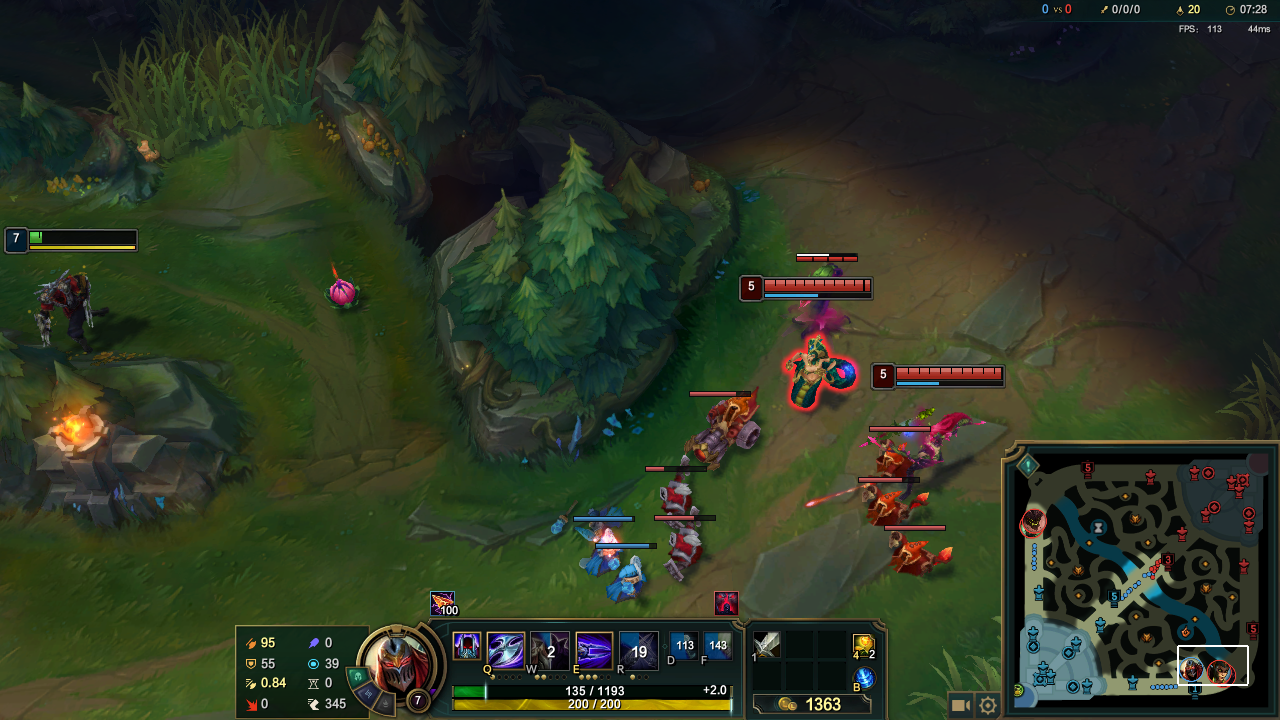DFYX: (892, 366, 1006, 386), (763, 281, 872, 299)
